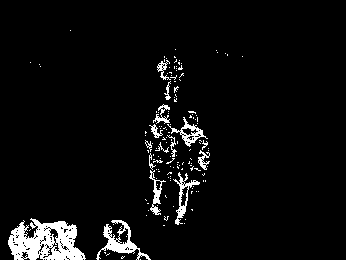person: (174, 110, 211, 226), (142, 103, 177, 216)
